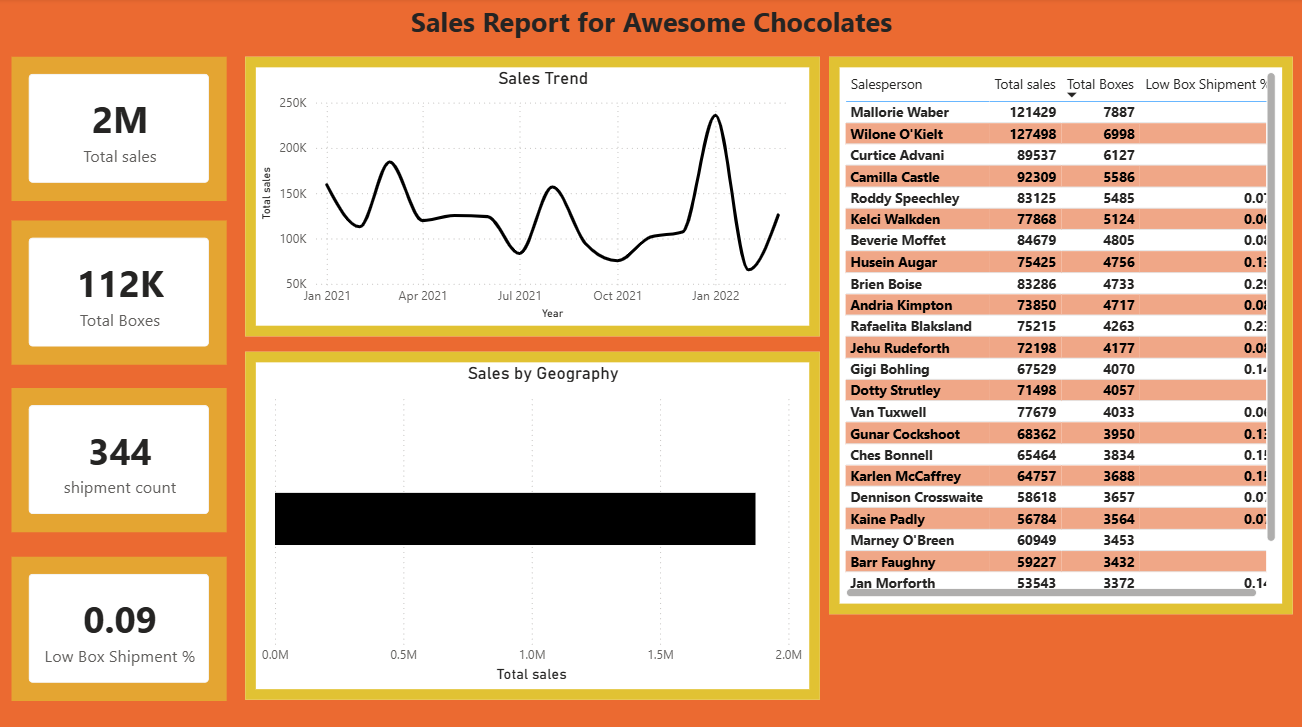

The dashboard page shown, as its layout file describes it:
{"tool":"powerbi","page":{"name":"Page 1","canvas":[1280,720],"ordinal":0},"visuals":[{"type":"cardVisual","fields":{"Data":["sales.Total sales"]},"box":[12.3,57.6,211.3,141.3],"z":0},{"type":"cardVisual","fields":{"Data":["sales.Total Boxes"]},"box":[12.3,218.2,211.3,141.3],"z":1000},{"type":"cardVisual","fields":{"Data":["sales.shipment count"]},"box":[12.3,382.8,211.3,141.3],"z":2000},{"type":"cardVisual","fields":{"Data":["sales.Low Box Shipment %"]},"box":[12.3,548.9,211.3,141.3],"z":3000},{"type":"barChart","title":"Sales by Geography","fields":{"Y":["sales.Total sales"]},"box":[241.5,347.2,564,341.7],"z":4000},{"type":"lineChart","title":"Sales Trend","fields":{"Y":["sales.Total sales"],"Category":["sales.SaleDate.Variation.Date Hierarchy.Year","sales.SaleDate.Variation.Date Hierarchy.Month"]},"box":[241.5,57.6,564,274.4],"z":4001},{"type":"tableEx","fields":{"Values":["people.Salesperson","sales.Total sales","sales.Total Boxes","sales.Low Box Shipment %"]},"box":[814.7,57.7,455.2,547.2],"z":4002},{"type":"textbox","box":[377.9,0,525.2,47.9],"z":4003}]}

Visuals, with their boxes in screenshot pixels (x1, y1, x2, y2), scaled from the page's 1280x720 canvas onto the 1302x727 screenshot:
cardVisual - sales.Total sales: BBox(13, 58, 227, 201)
cardVisual - sales.Total Boxes: BBox(13, 220, 227, 363)
cardVisual - sales.shipment count: BBox(13, 387, 227, 529)
cardVisual - sales.Low Box Shipment %: BBox(13, 554, 227, 697)
"Sales by Geography" barChart: BBox(246, 351, 819, 696)
"Sales Trend" lineChart: BBox(246, 58, 819, 335)
tableEx - people.Salesperson x sales.Total sales: BBox(829, 58, 1292, 611)
textbox: BBox(384, 0, 919, 48)
